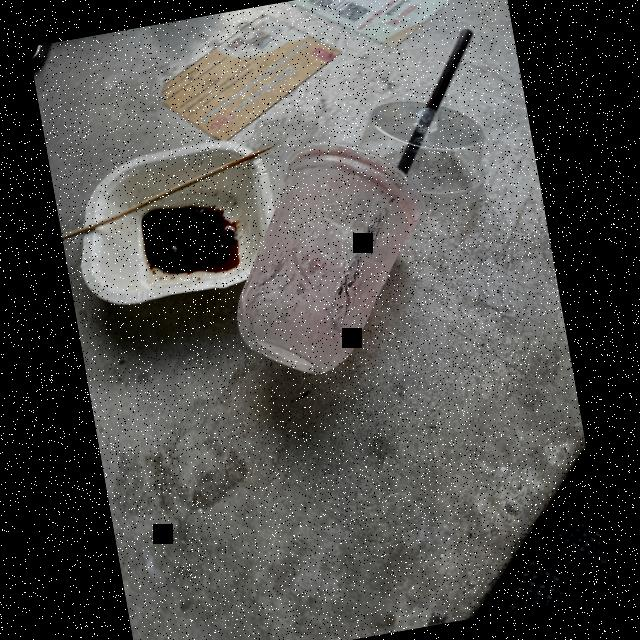cardboard_bowl: (59, 128, 296, 314)
plastic_cup: (207, 127, 447, 387)
plastic_cup_lid: (338, 82, 509, 214)
stick: (51, 136, 292, 246)
straw: (378, 28, 496, 176)
